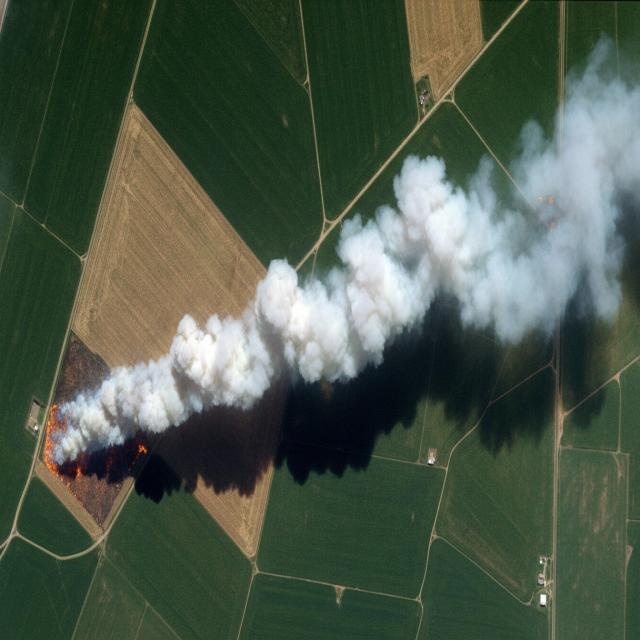wildfire: (41, 313, 231, 491)
